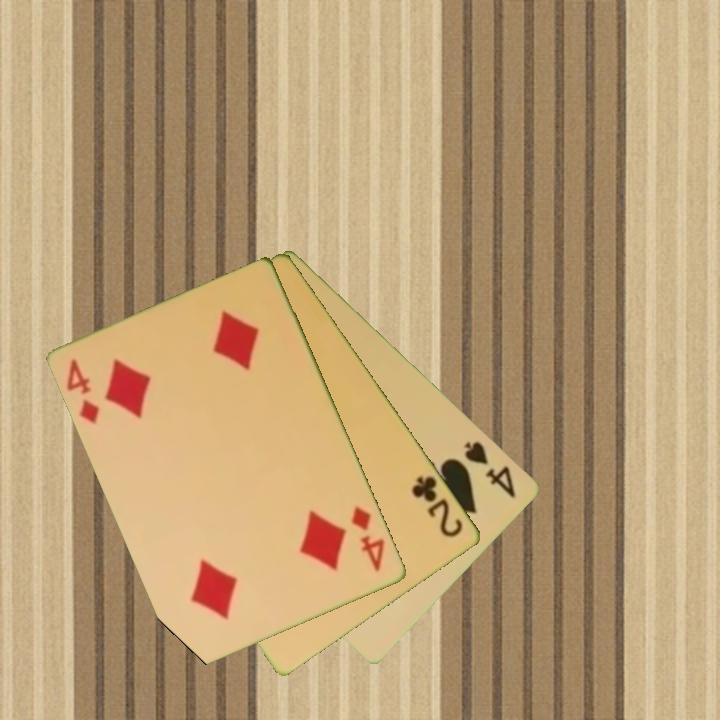2c: (408, 472, 467, 541)
4d: (348, 503, 388, 575), (63, 355, 103, 427)
4s: (461, 437, 520, 501)
